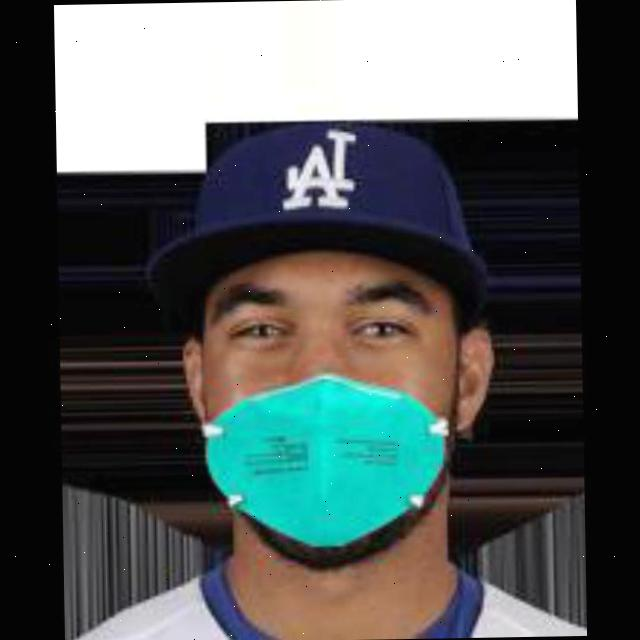suspicion: (127, 108, 522, 610)
